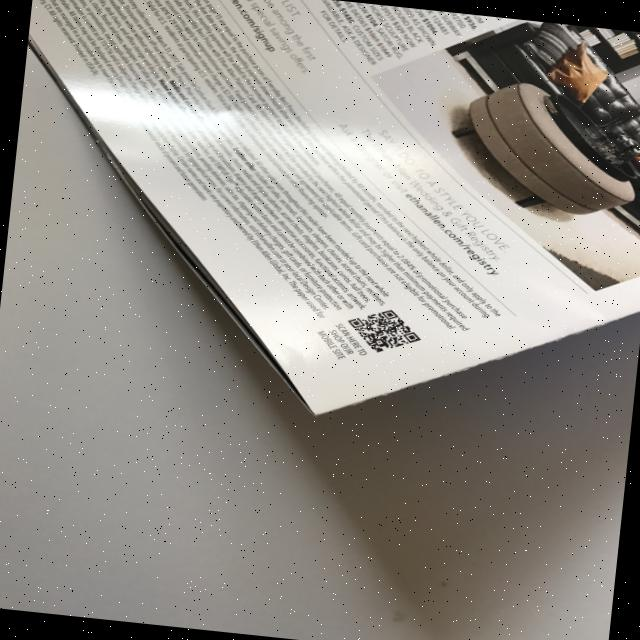paper: (0, 0, 640, 449)
